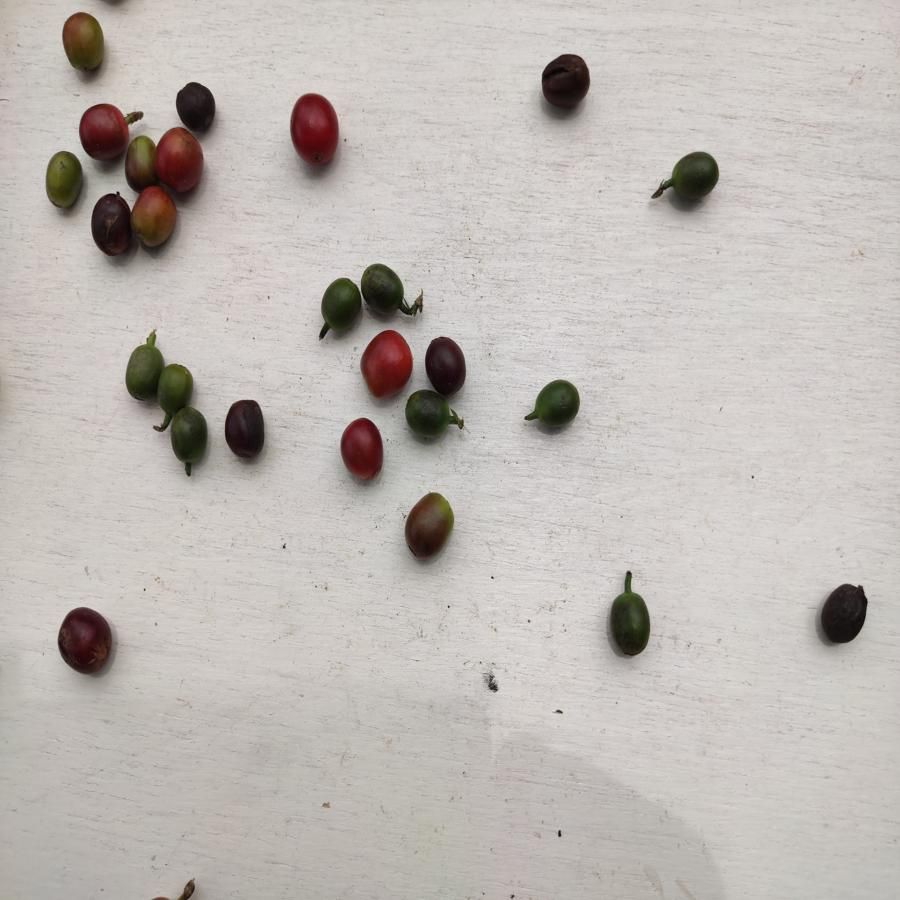Inmaduro: (609, 592, 656, 655), (357, 259, 407, 315), (670, 150, 721, 204), (166, 407, 208, 467), (123, 346, 166, 403), (404, 391, 450, 440), (535, 380, 581, 428), (318, 279, 362, 329), (158, 364, 193, 415)
Maduro: (289, 91, 339, 167), (362, 331, 413, 399), (158, 129, 202, 198), (76, 103, 127, 162), (341, 417, 385, 484)
Pinton: (405, 492, 452, 558), (63, 11, 107, 74), (133, 189, 175, 248), (46, 152, 83, 212), (126, 133, 156, 190)
Sobremaduro: (58, 607, 115, 676), (820, 582, 866, 649), (537, 52, 591, 109), (222, 398, 267, 461), (89, 191, 133, 254), (172, 80, 218, 137), (424, 337, 467, 393)
